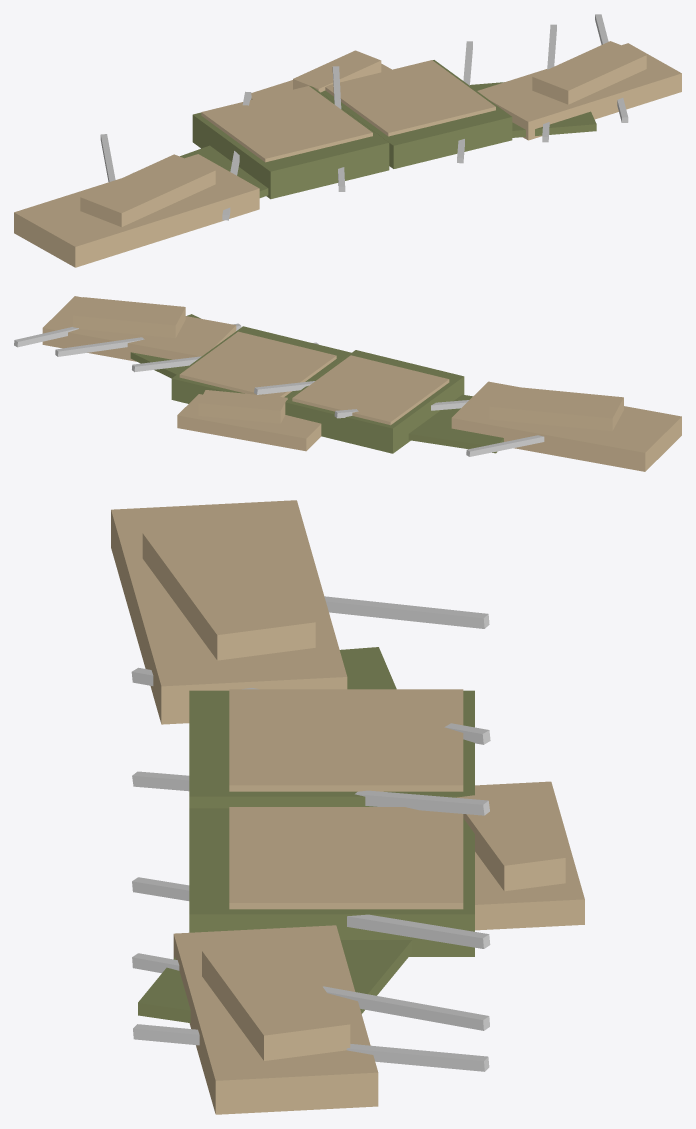
File: SM_HescoCorto2_v0_MallaLimpia_e3_Brecha_LOD0.fbx
3 renders of one model, top to bottom at view 1: azimuth 30°, elevation 25°; view 2: azimuth 150°, elevation 25°; view 3: azimuth 270°, elevation 25°, orthographic. The views are drawn at different scales.
Visible parts, largest first — view 1: SM_hesco_piezas_v63_LOD0; view 2: SM_hesco_piezas_v63_LOD0; view 3: SM_hesco_piezas_v63_LOD0.
Part boxes in pixels (box(x1,y1,x2,y2)): SM_hesco_piezas_v63_LOD0: box(14, 14, 681, 267); SM_hesco_piezas_v63_LOD0: box(14, 296, 681, 471); SM_hesco_piezas_v63_LOD0: box(111, 500, 584, 1114).
Size of the model in its own units: 5.83 by 0.3263 by 2.02.
